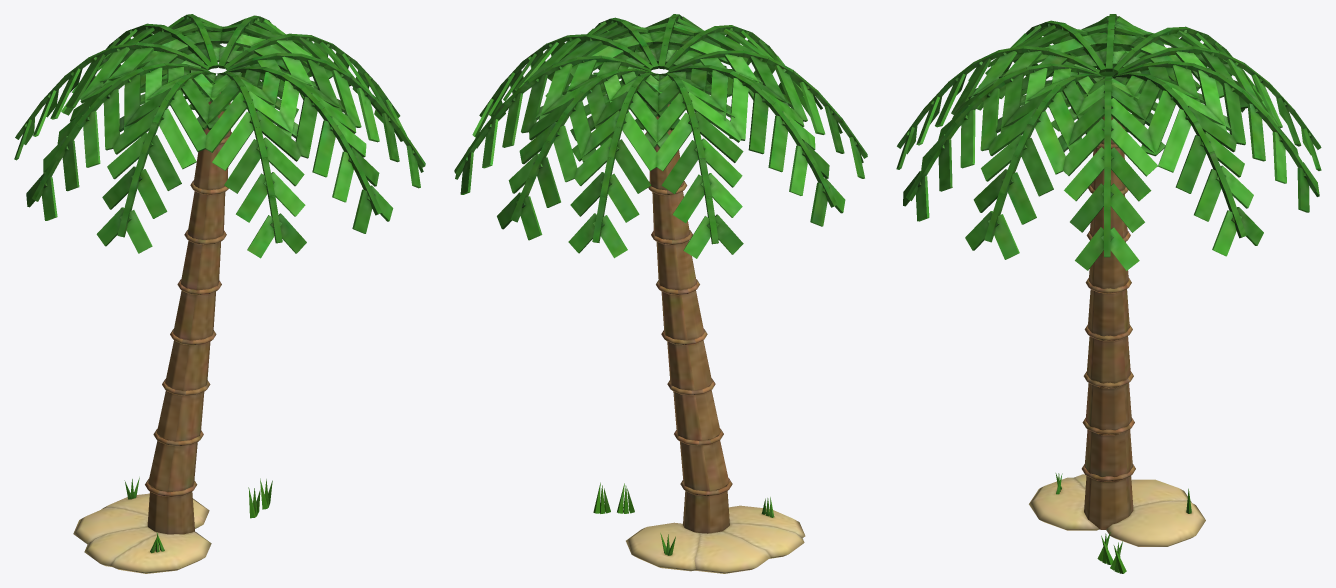
The model's file is coconut_palm.glb.
3 renders of one model, left to right at view 1: azimuth 30°, elevation 25°; view 2: azimuth 150°, elevation 25°; view 3: azimuth 270°, elevation 25°, orthographic. The views are drawn at different scales.
Parts seen in each view (by area): view 1: crown, coconut_palm; view 2: crown, coconut_palm; view 3: crown, coconut_palm.
Boxes of the visible parts, x1,y1,x2,y2 form: crown: (14, 14, 425, 534); coconut_palm: (73, 477, 272, 573); crown: (454, 14, 867, 533); coconut_palm: (593, 482, 805, 573); crown: (896, 14, 1321, 529); coconut_palm: (1029, 473, 1205, 573).
Bounding box in the file's own units: 1.17 × 1.49 × 1.15.
Materials: 1 (1 with a texture image).
